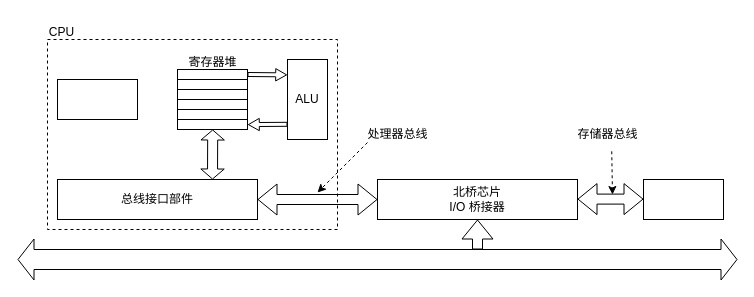
Image size: 754x297. Some labels were removed from this diagram. The centre of each missing label's shape, as x and y in pixels:
主存储器: (x=683, y=199)
控制器: (x=97, y=99)
